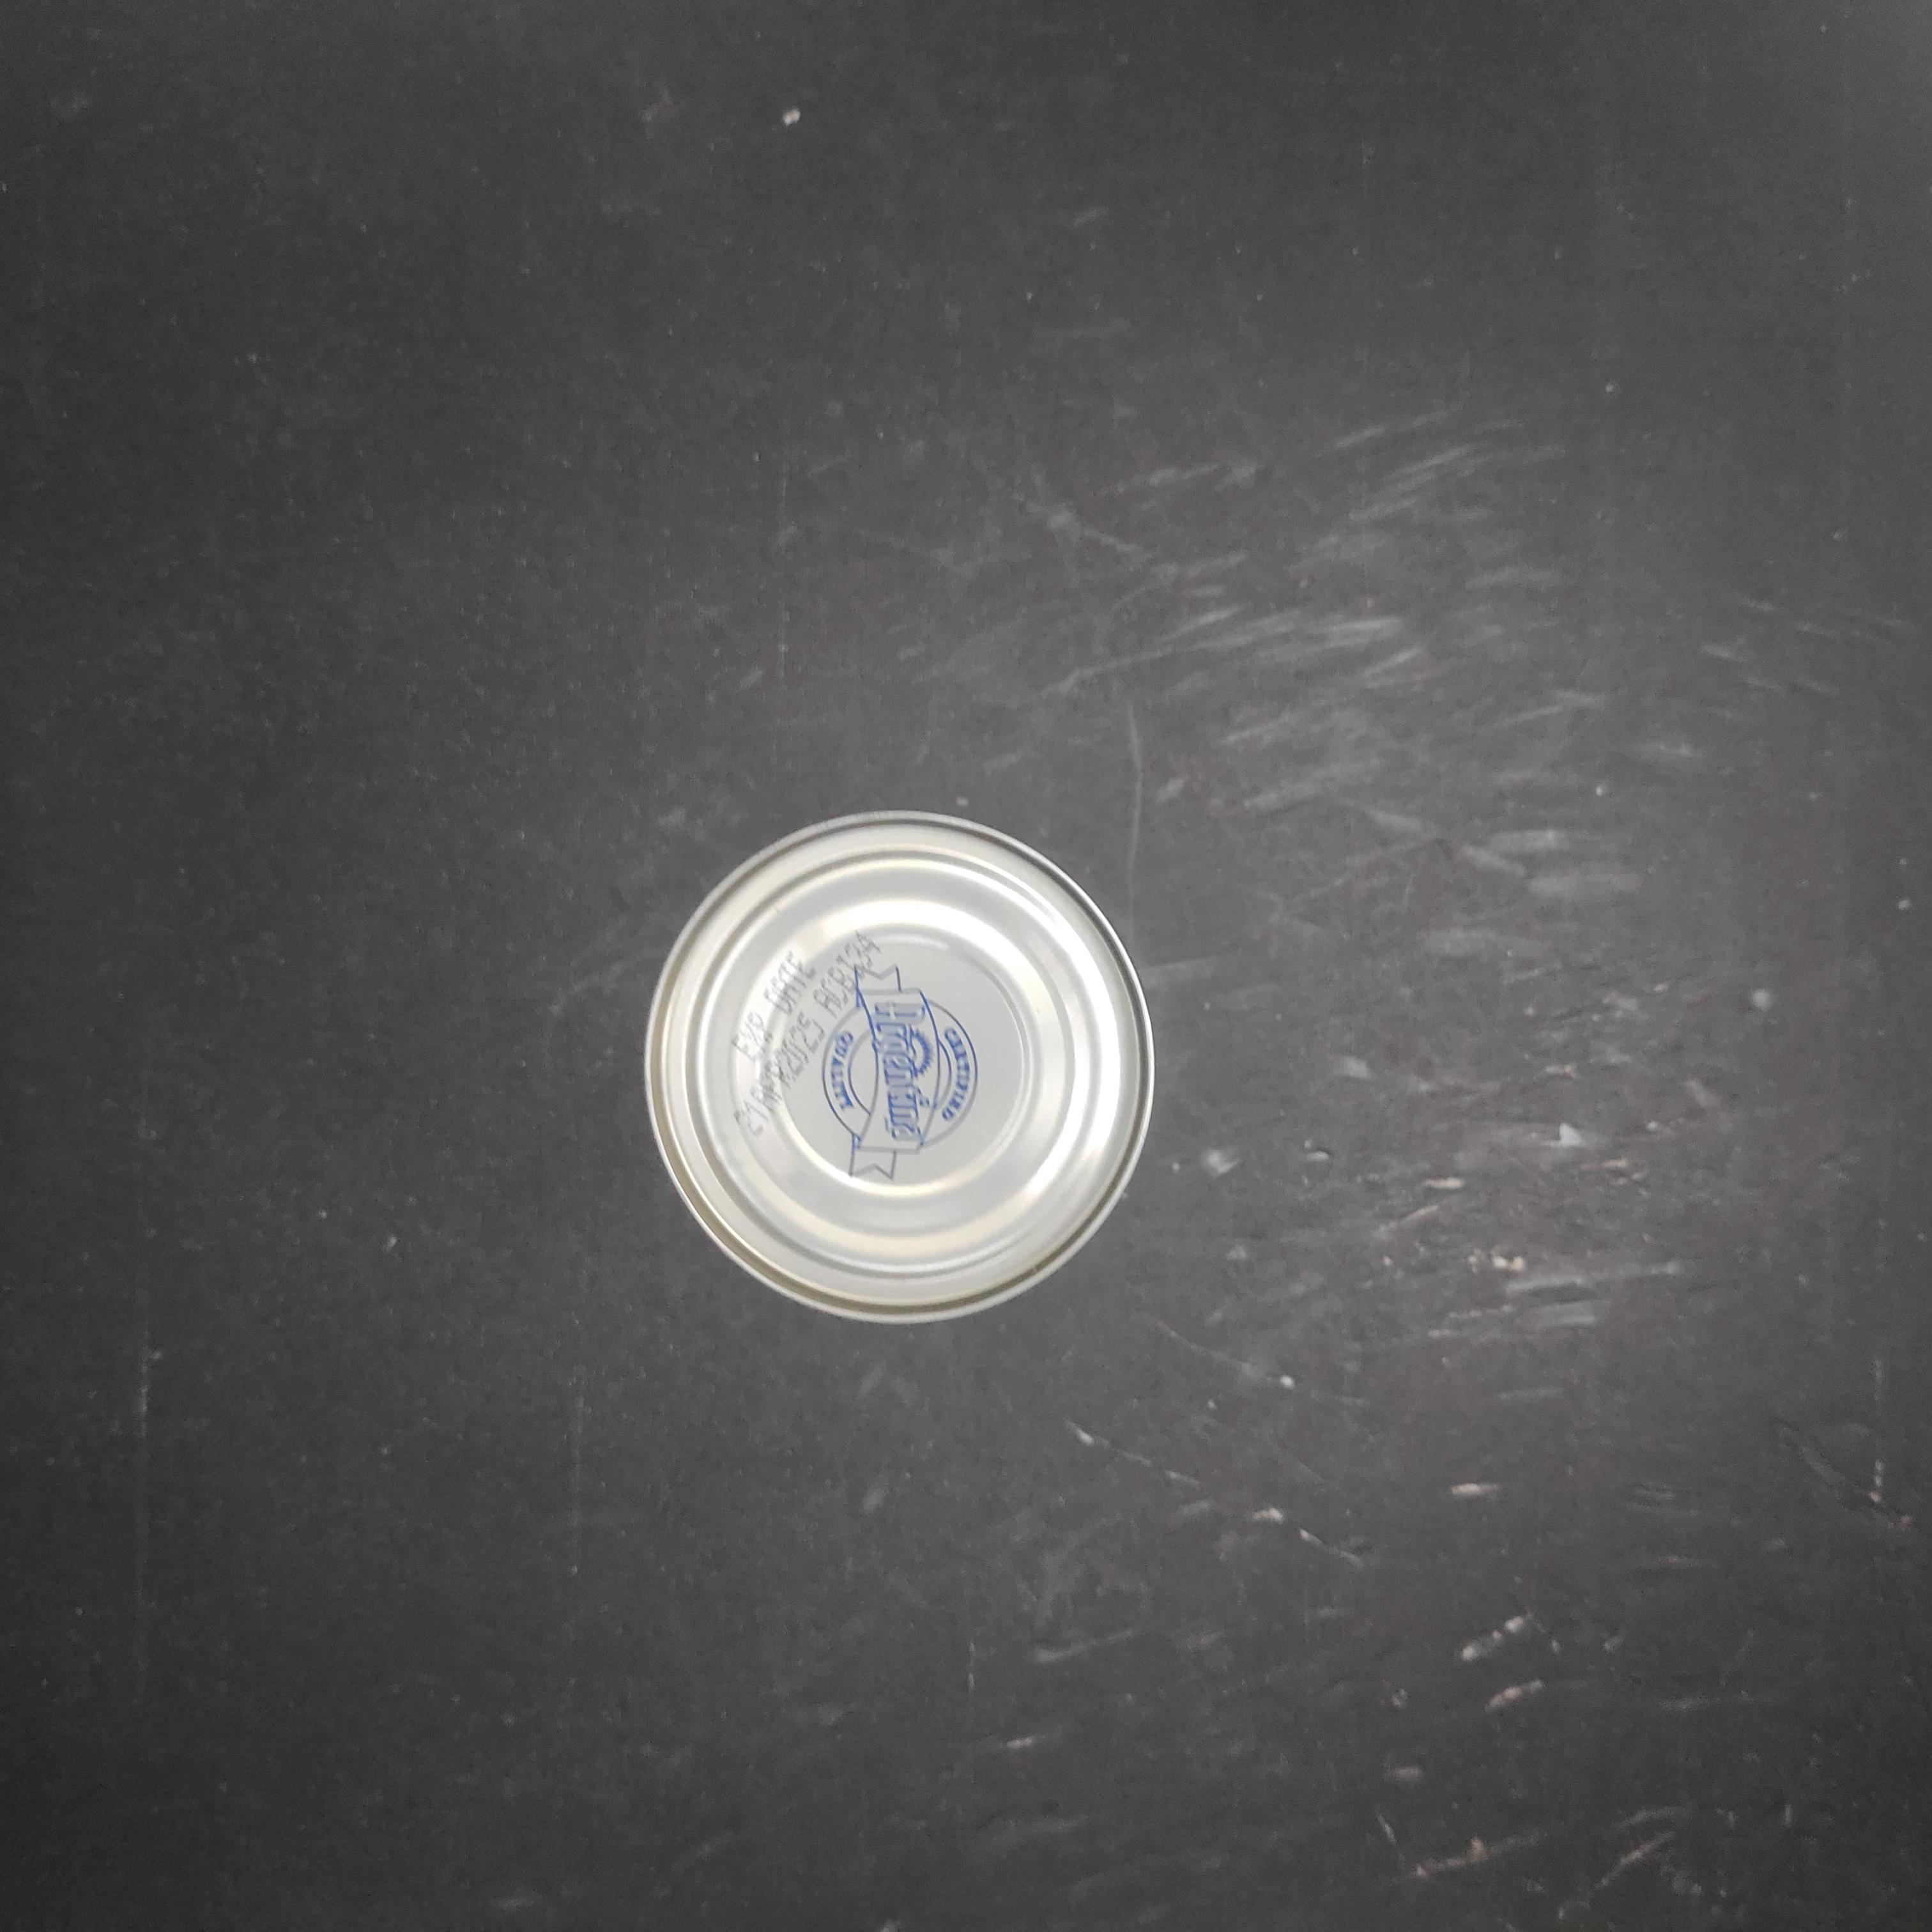No defect: (633, 793, 1168, 1338)
